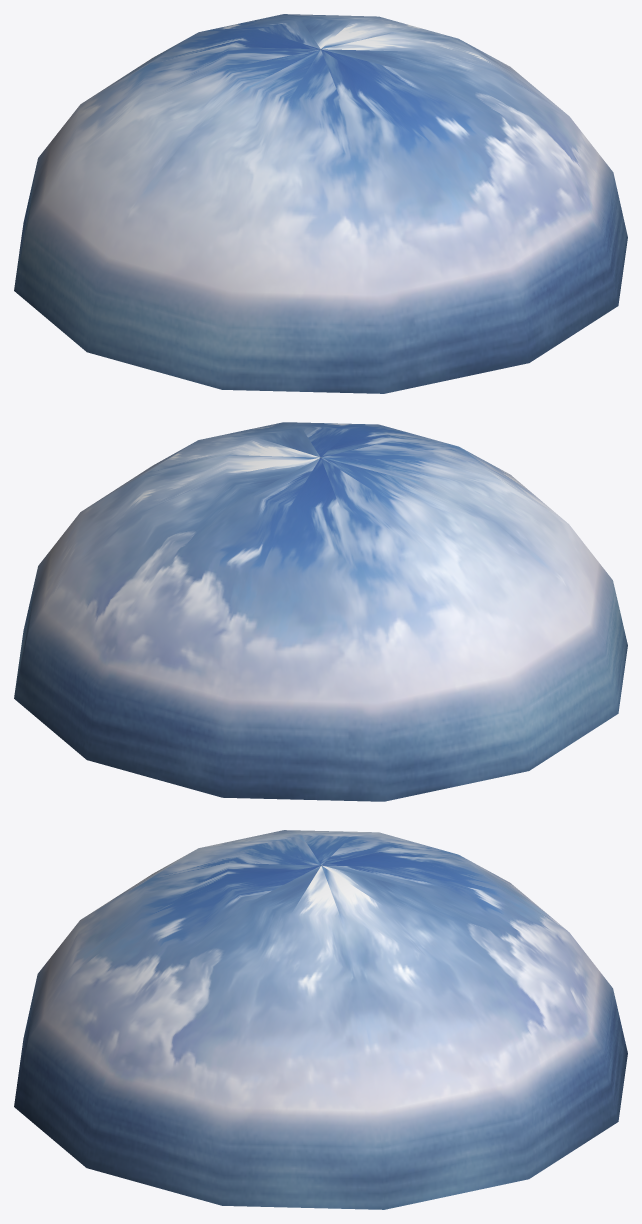
Rendered from env_tat_cave_01_pre.glb.
3 renders of one model, top to bottom at view 1: azimuth 30°, elevation 25°; view 2: azimuth 150°, elevation 25°; view 3: azimuth 270°, elevation 25°, orthographic.
Visible parts, largest first — view 1: skybox_01_mesh (1); view 2: skybox_01_mesh (1); view 3: skybox_01_mesh (1).
Part boxes in pixels (x1,y1,x2,y2): skybox_01_mesh (1): [14, 14, 627, 393]; skybox_01_mesh (1): [14, 422, 627, 801]; skybox_01_mesh (1): [14, 830, 627, 1209].
Bounding box in the file's own units: 478 × 185 × 478.
22 materials, 22 textured.
